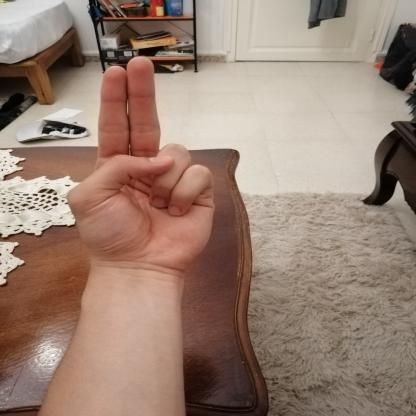TA: (47, 46, 230, 278)
